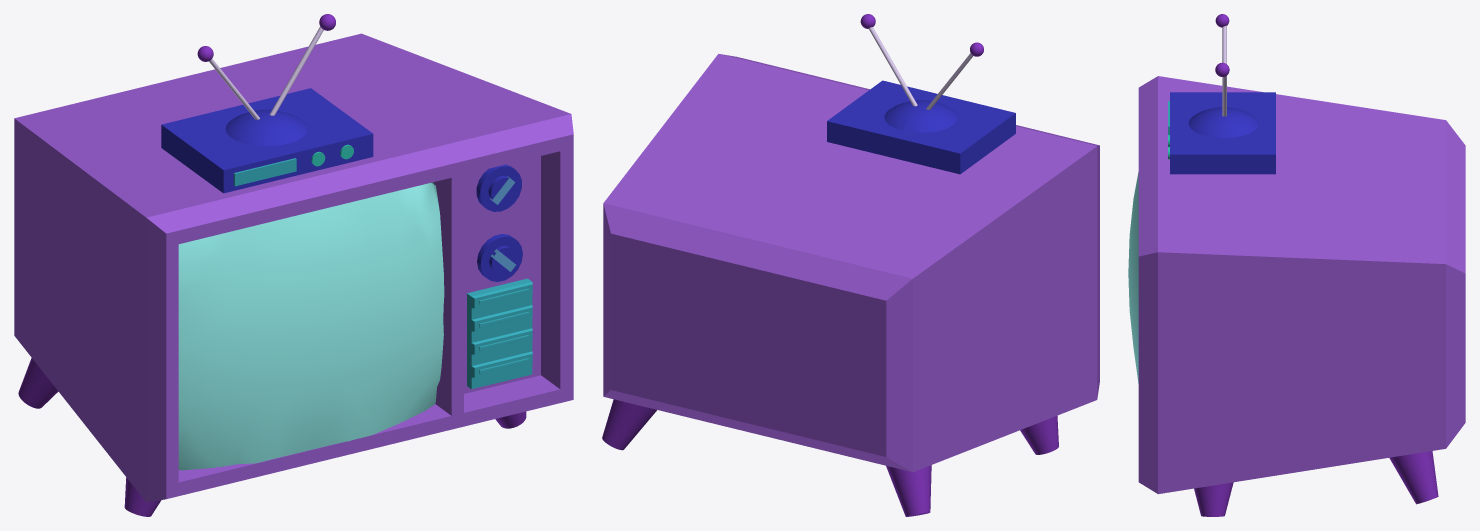
The model's file is tvmodel.fbx.
The picture shows the model from 3 angles, left to right: view 1: azimuth 30°, elevation 25°; view 2: azimuth 150°, elevation 25°; view 3: azimuth 270°, elevation 25°; orthographic projection. The views are drawn at different scales.
Visible parts, largest first — view 1: Box001, Sphere001, Box002, Box003, Box007, Sphere002, Cone005, Cylinder007, Cylinder005, Box006, Cone004; view 2: Box001, Box002, Box003, Sphere002, Cone005, Cone002, Cone004; view 3: Box002, Box001, Box003, Cone002, Sphere002, Sphere001, Cone001.
Boxes of the visible parts, x1,y1,x2,y2 form: Box001: (14,60,463,502); Sphere001: (178,182,444,470); Box002: (158,33,573,460); Box003: (161,88,373,193); Box007: (467,278,532,389); Sphere002: (225,109,307,146); Cone005: (18,358,58,408); Cylinder007: (477,234,522,281); Cylinder005: (476,164,521,211); Box006: (233,158,296,186); Cone004: (124,477,161,516); Box001: (699,78,1099,472); Box002: (603,53,896,439); Box003: (827,80,1015,174); Sphere002: (884,100,957,132); Cone005: (886,465,931,516); Cone002: (602,399,656,450); Cone004: (1020,415,1058,454); Box002: (1138,141,1465,494); Box001: (1138,76,1465,229); Box003: (1170,92,1275,174); Cone002: (1389,451,1438,504); Sphere002: (1188,107,1258,138); Sphere001: (1128,172,1138,383); Cone001: (1194,482,1233,516).
Size of the model in its own units: 9896 by 10000 by 8005.
